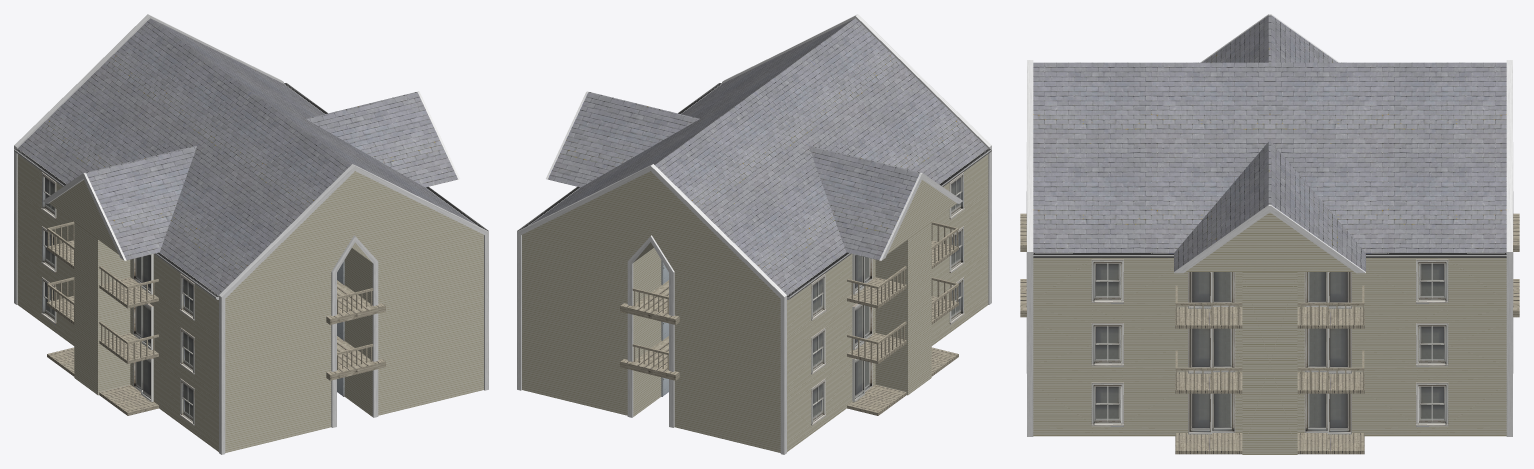
Rendered from apartment.dae.
The picture shows the model from 3 angles, left to right: view 1: azimuth 30°, elevation 25°; view 2: azimuth 150°, elevation 25°; view 3: azimuth 270°, elevation 25°; orthographic projection. The views are drawn at different scales.
Visible parts, largest first — view 1: Apartment; view 2: Apartment; view 3: Apartment.
Part boxes in pixels (left/top/right/bottom): Apartment: left=14, top=14, right=488, bottom=454; Apartment: left=517, top=14, right=991, bottom=454; Apartment: left=1020, top=14, right=1519, bottom=454.
Size of the model in its own units: 798 by 877 by 583.
